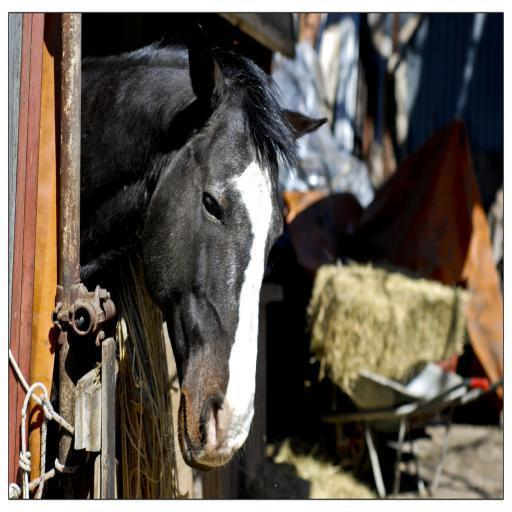horse: (82, 21, 328, 474)
